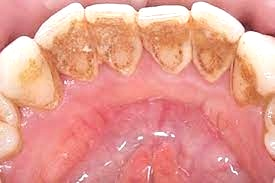Tooth Discoloration: (49, 12, 272, 111), (18, 55, 44, 89)
